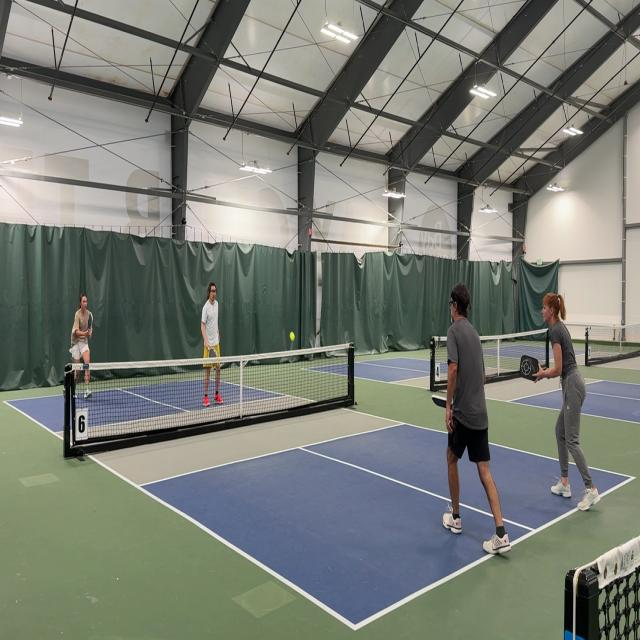ball: (289, 330, 296, 342)
